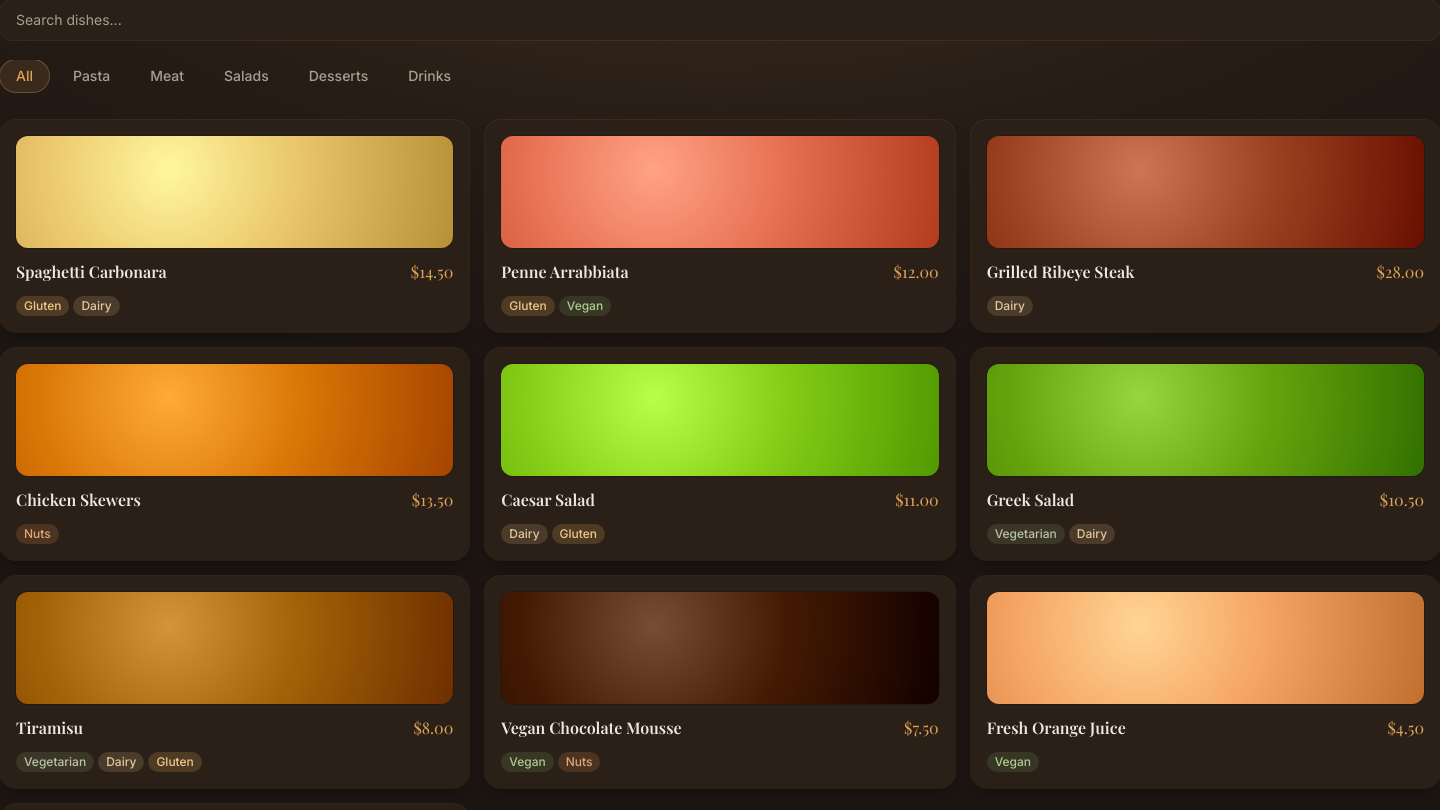
Test case: MenuPage › filters dishes by search term
The image size is (1440, 810).
Type "tiramisu" into the search field with placeholder "Search dishes..." at (720, 20), box [0,0,1439,40]
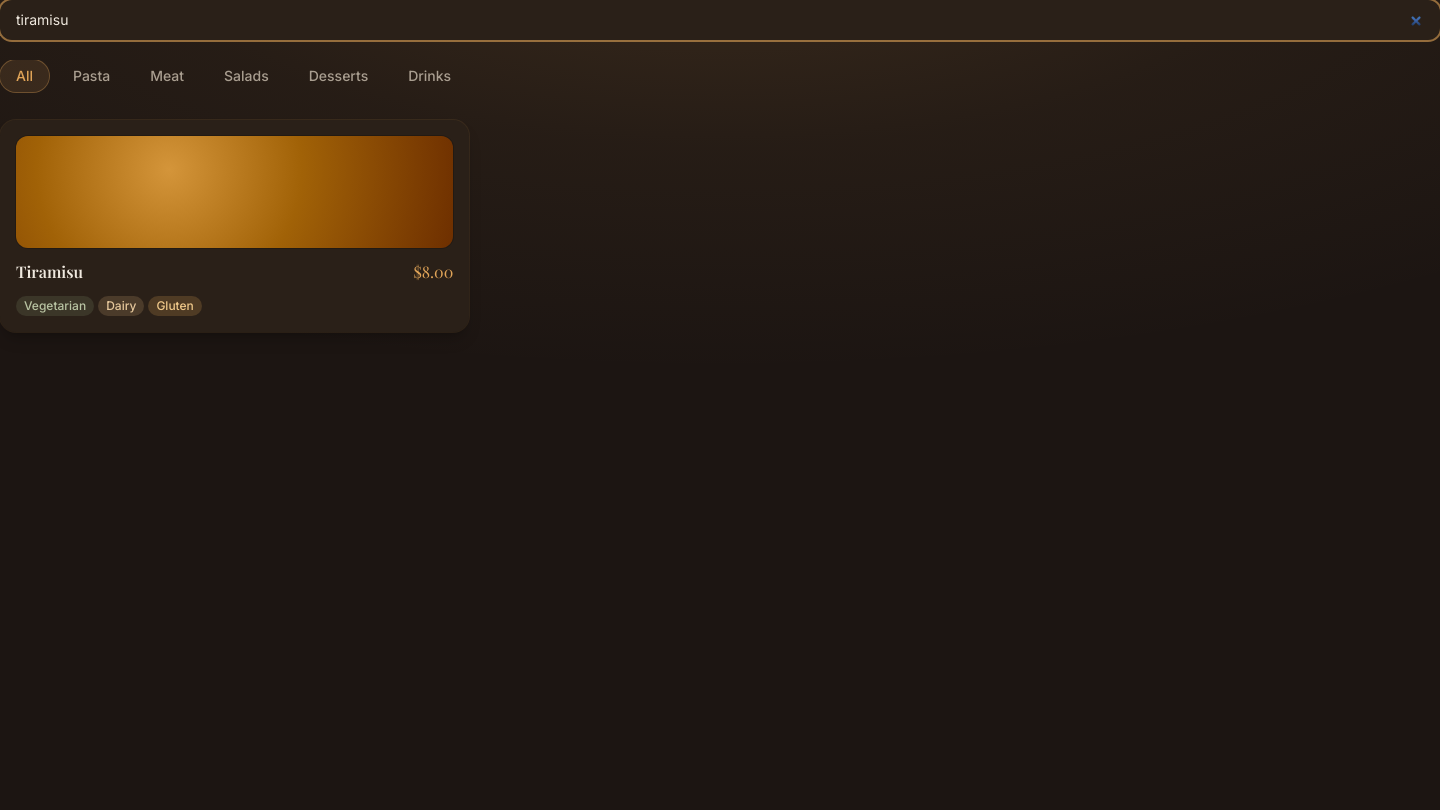
Check: the heading "Tiramisu" is shown, box [16,260,83,284]
Check: the number of links with test id "dish-card" is 1, box [0,120,469,332]
